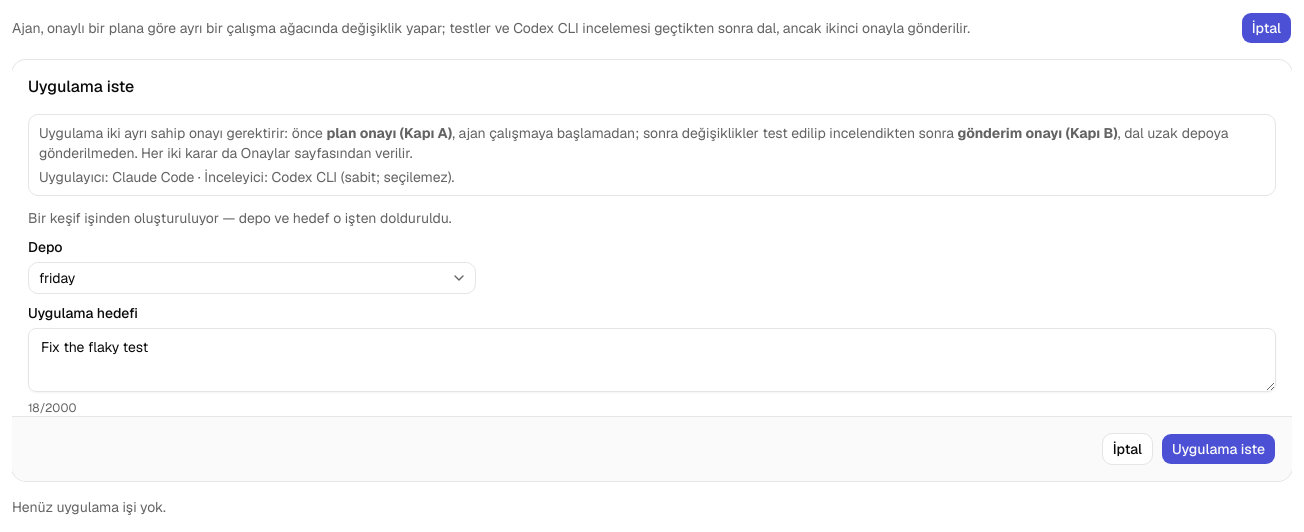
Scenario: ImplementationJobsPanel › opens the form prefilled from a discovery job and adds the created job
Expected: the text box labelled "Uygulama hedefi" holds "Fix the flaky test", [28,328,1276,392]
Expected: the dropdown named "Depo" is shown, [28,262,476,294]
Click the button "Uygulama iste": point(1218, 449) [1161,433,1276,465]
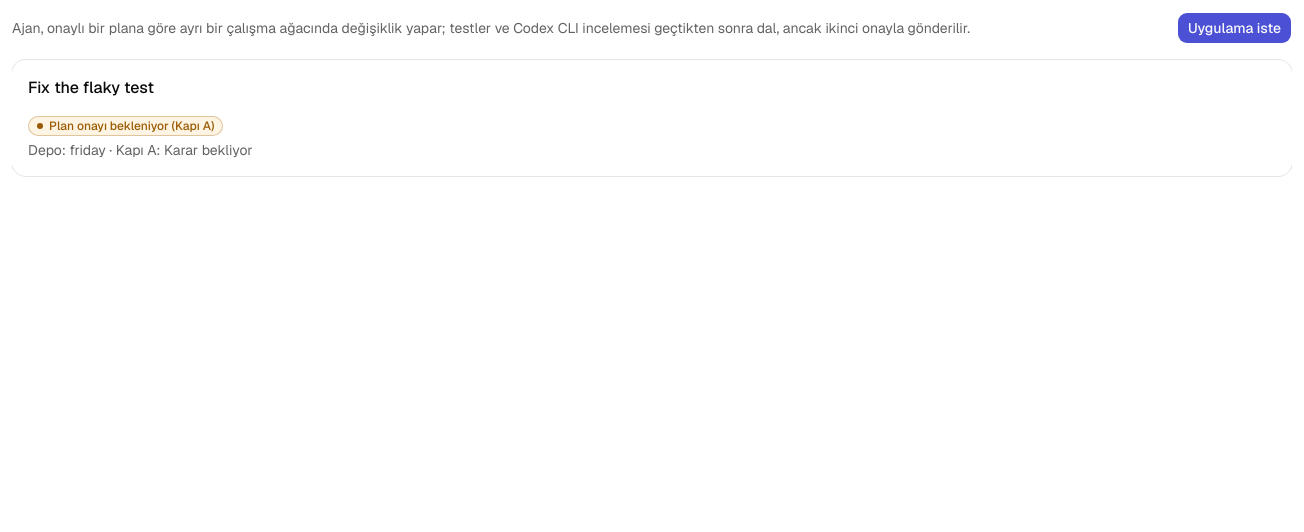
Expected: the link "Fix the flaky test" is shown, [12,60,1292,176]
Expected: the label labelled "Uygulama hedefi" is gone
